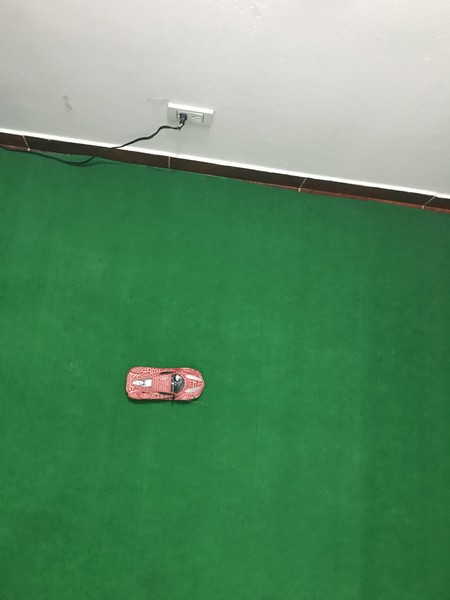RC: (124, 365, 206, 404)
